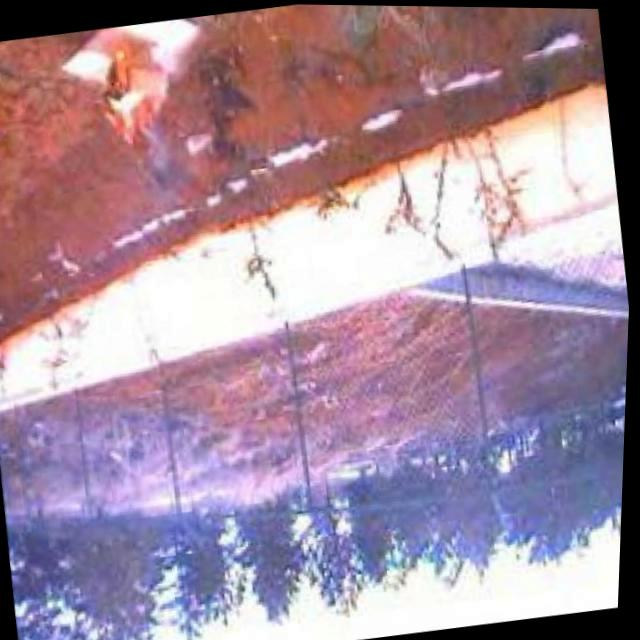fire: (90, 21, 188, 191)
